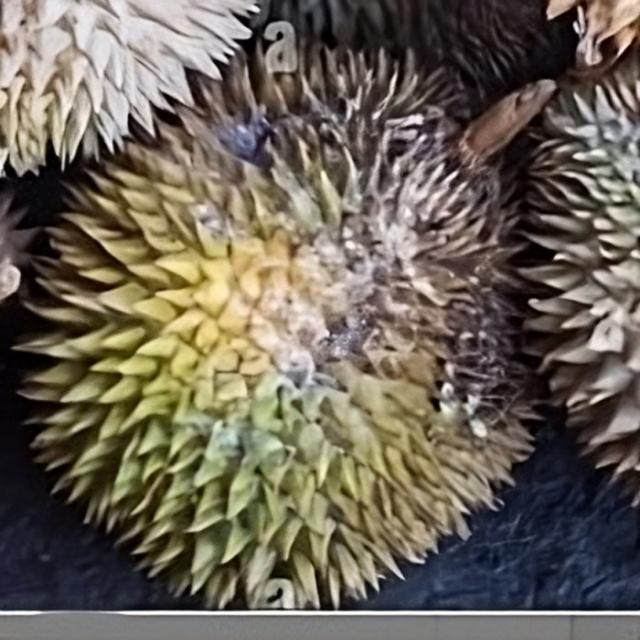defective: (23, 79, 553, 613)
